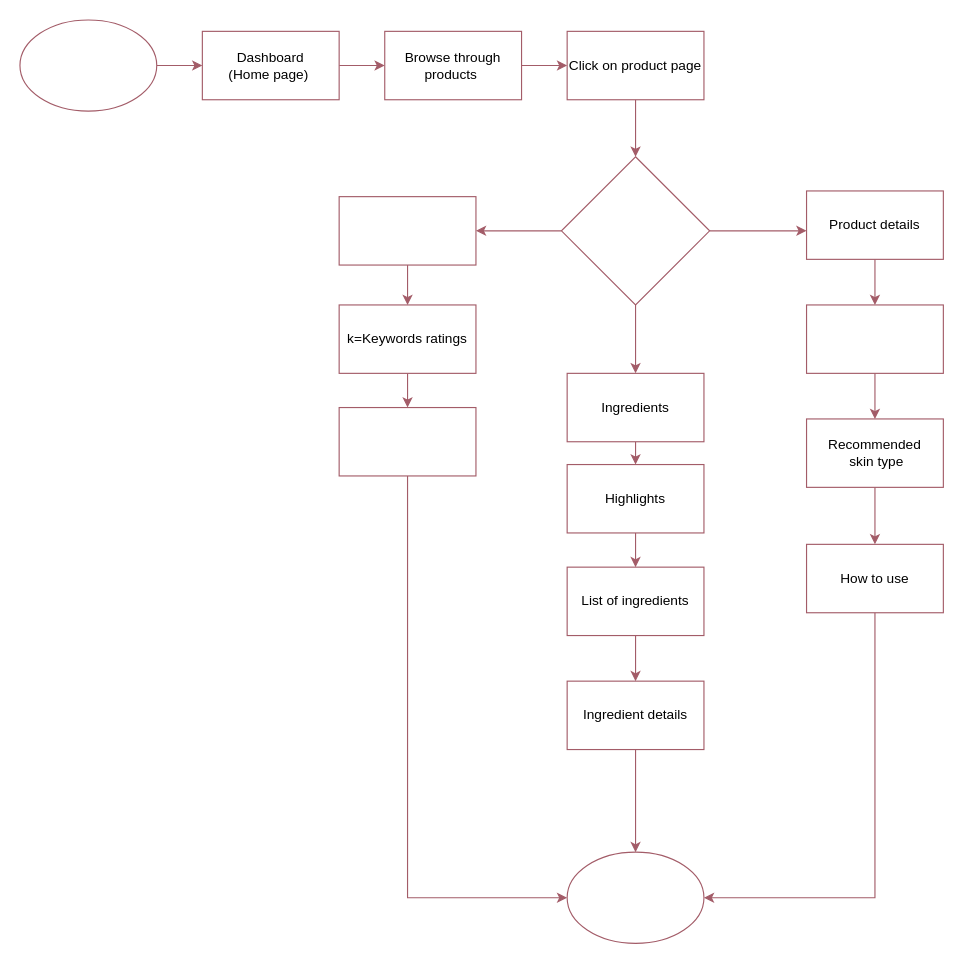
The diagram is 963 pixels wide and 963 high, and some of its shapes have lost their labels. The box of each missing label's shape, as (x1, y1, x2, y2) in pixels:
General description: (805, 304, 943, 373)
Open App: (19, 19, 157, 111)
Product Learned: (566, 851, 704, 943)
Reviews: (338, 196, 476, 265)
Users reviews: (338, 406, 476, 476)
What do you want to know more about?: (560, 156, 710, 305)
